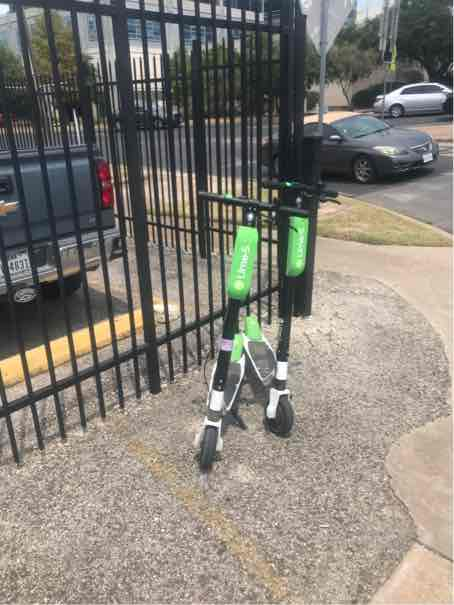scooter: (197, 185, 292, 471), (243, 187, 337, 439)
